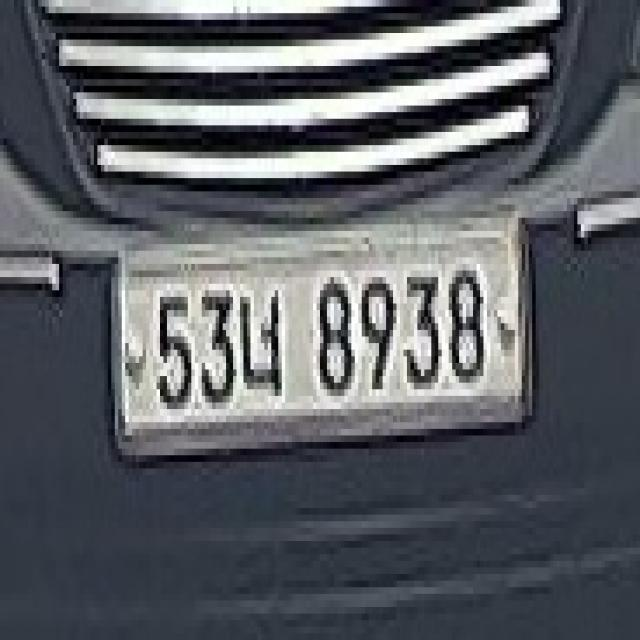3: (400, 270, 442, 390), (198, 284, 237, 409)
5: (143, 284, 195, 409)
8: (310, 264, 358, 396), (449, 264, 490, 383)
9: (355, 277, 396, 396)
license_plate: (111, 204, 532, 462)
neo: (233, 270, 289, 396)
